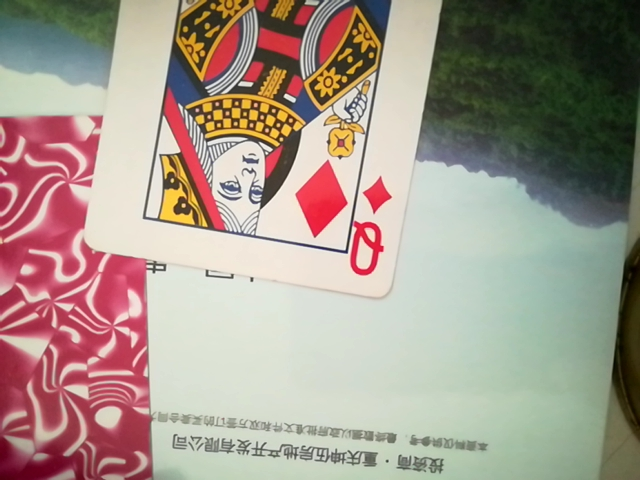fk q: (84, 0, 449, 295)
